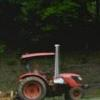Tractor: (12, 42, 92, 100)
